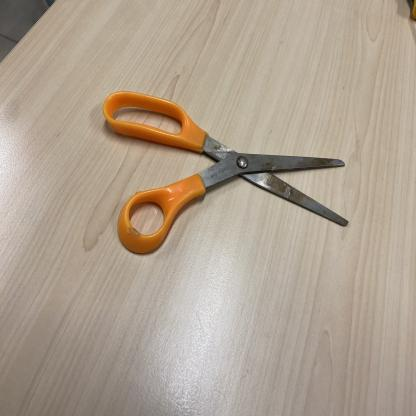scissors: (102, 90, 350, 254)
